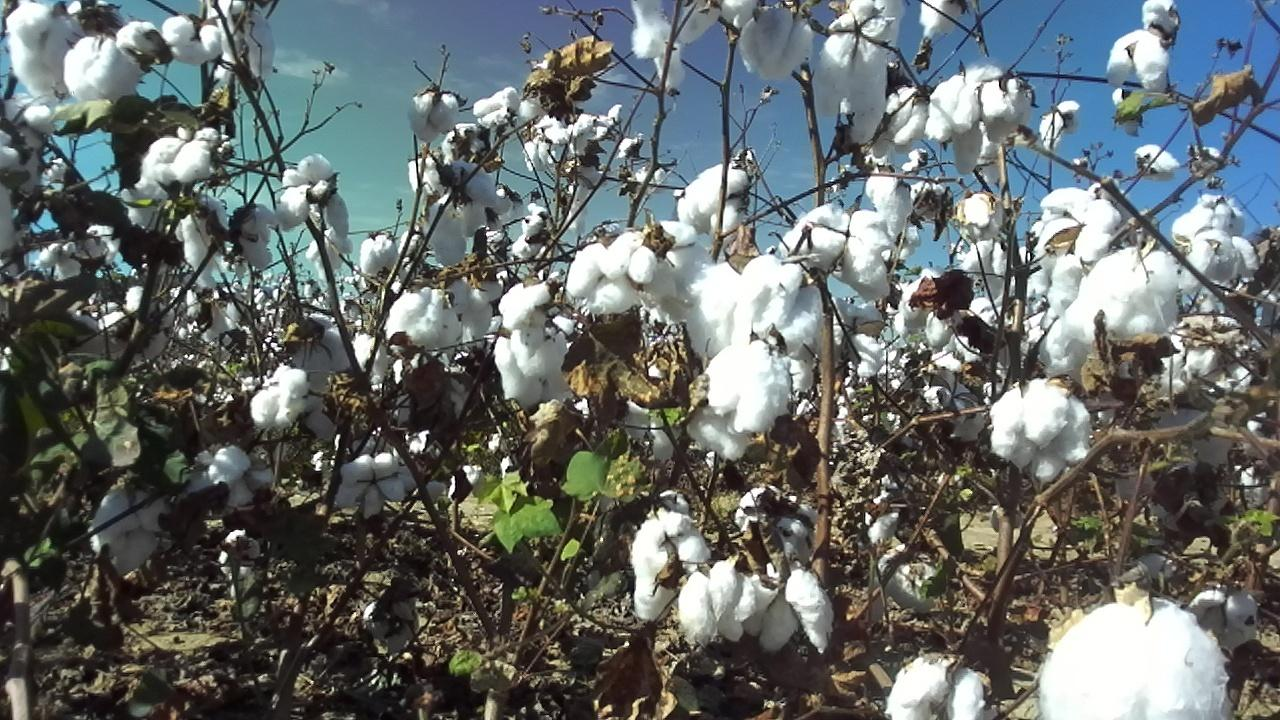cotton_ready: (1038, 597, 1234, 720), (688, 254, 820, 366), (1065, 245, 1179, 345), (814, 0, 892, 145), (990, 377, 1092, 482), (1156, 359, 1255, 461), (785, 205, 892, 298), (1152, 310, 1257, 399), (420, 159, 504, 267), (633, 510, 710, 623), (704, 339, 792, 434), (91, 484, 172, 578), (926, 65, 999, 169), (567, 235, 659, 315), (888, 654, 999, 720), (9, 2, 84, 99), (749, 569, 834, 654), (677, 557, 757, 647), (644, 220, 715, 321), (1033, 184, 1120, 266), (495, 315, 572, 406), (620, 364, 689, 463), (276, 155, 352, 239), (734, 484, 812, 563), (183, 447, 279, 511), (1037, 255, 1087, 377), (100, 286, 175, 364), (738, 4, 817, 78), (135, 127, 219, 194), (677, 160, 752, 235), (208, 0, 279, 77), (335, 450, 409, 522), (1180, 230, 1260, 294), (63, 38, 140, 104), (0, 99, 52, 195), (384, 290, 465, 351), (894, 270, 959, 346), (249, 367, 327, 429), (631, 0, 685, 89), (868, 82, 930, 158), (924, 366, 986, 442), (440, 264, 505, 335), (175, 195, 229, 280), (1106, 29, 1172, 90), (1190, 592, 1258, 651), (879, 544, 936, 614), (832, 302, 885, 374), (1174, 197, 1249, 245), (682, 0, 754, 50), (292, 312, 351, 373), (865, 162, 913, 235), (688, 406, 750, 462), (499, 279, 560, 333), (981, 77, 1030, 139), (164, 15, 221, 68), (961, 240, 1012, 299), (472, 85, 545, 126), (441, 115, 499, 166), (408, 90, 460, 145), (237, 204, 277, 270), (954, 192, 1005, 243), (919, 0, 965, 42)
